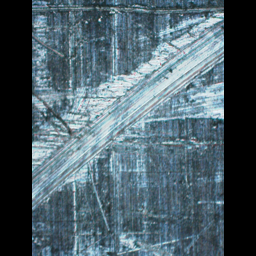d: (32, 0, 223, 215)
